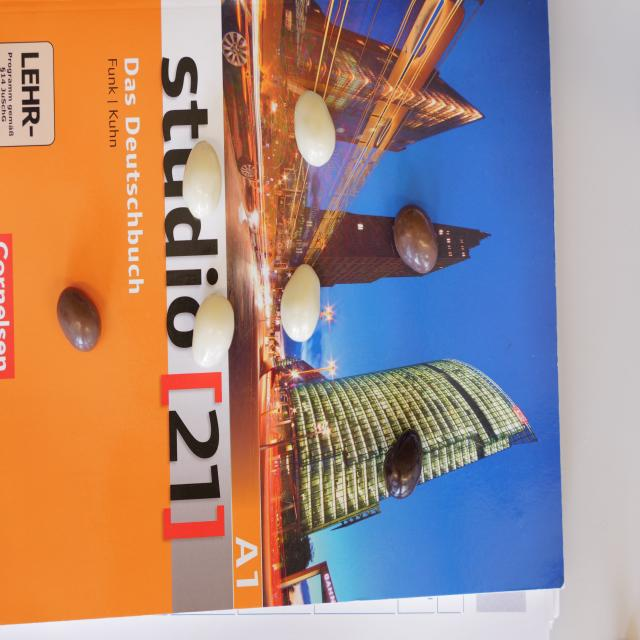Jelly_Black: (384, 426, 424, 501)
Jelly_Milk: (393, 205, 439, 277), (56, 283, 102, 353)
Jelly_White: (280, 264, 322, 344), (294, 90, 336, 166), (182, 140, 222, 219), (192, 294, 234, 369)
